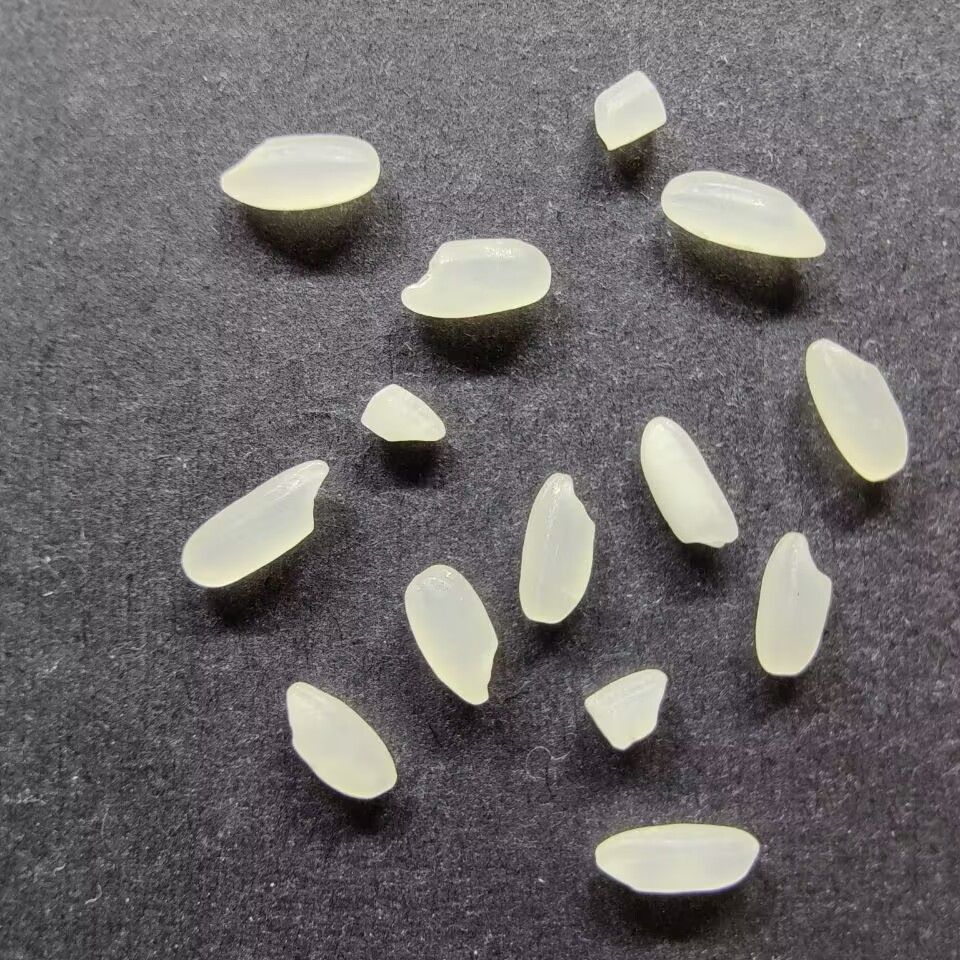broken: (583, 667, 668, 751), (593, 70, 666, 150), (360, 383, 446, 443)
rice: (181, 457, 329, 588), (660, 169, 827, 259), (804, 338, 908, 482), (284, 680, 398, 800), (403, 564, 499, 705), (638, 416, 740, 547), (219, 133, 380, 212), (399, 238, 551, 319), (517, 472, 596, 624), (593, 823, 760, 894), (754, 530, 832, 676)
